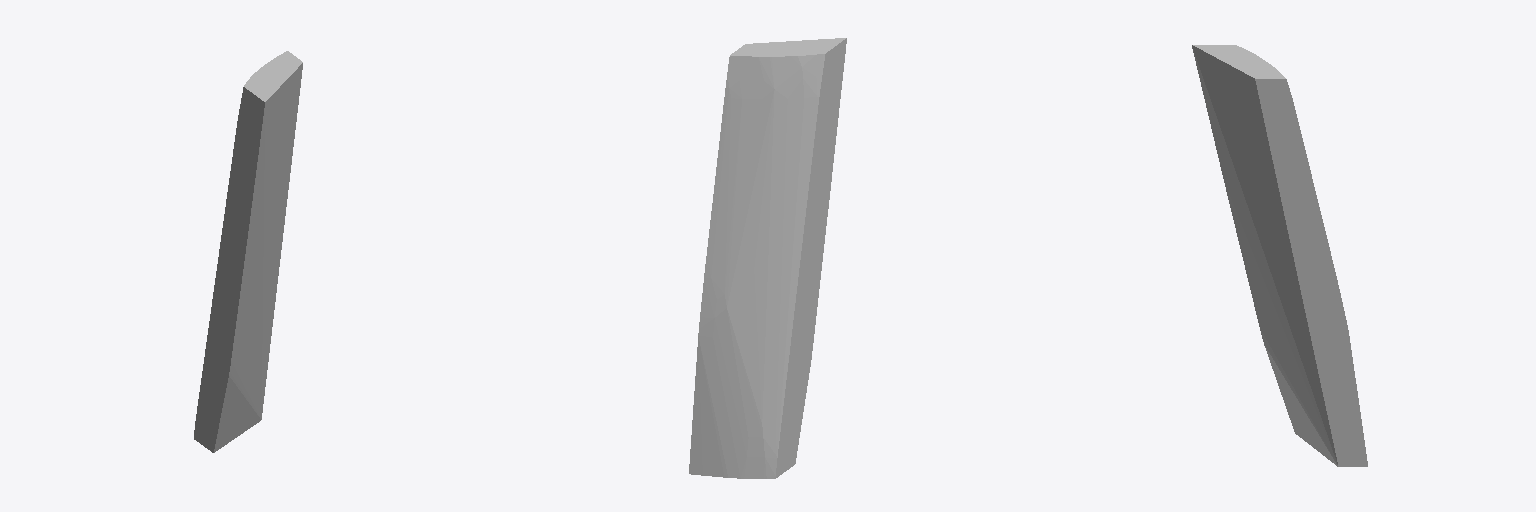
File: phantom-elastrat_collision_12.obj
3 views of the same model, side by side, from view 1: azimuth 30°, elevation 25°; view 2: azimuth 150°, elevation 25°; view 3: azimuth 270°, elevation 25° (orthographic).
Size of the model in its own units: 0.0046 by 0.0245 by 0.0101.